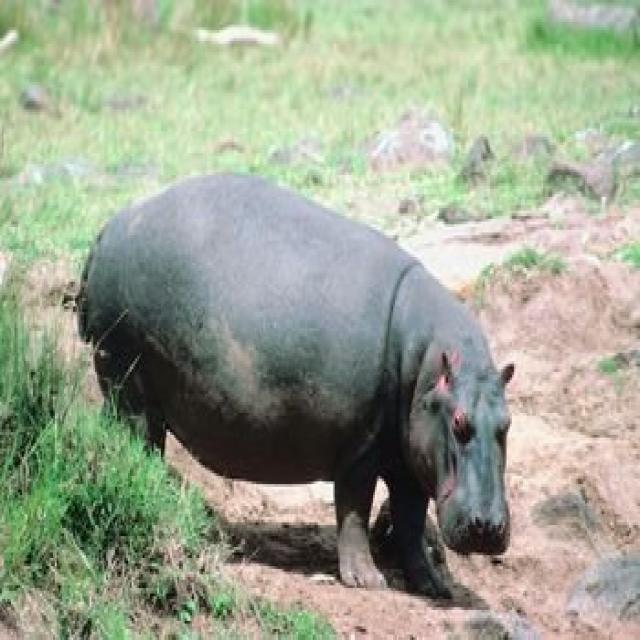Hippopotamus: (80, 172, 516, 590)
